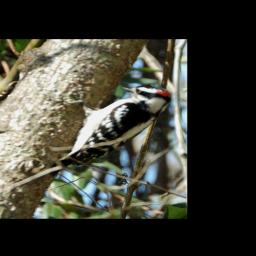Woodpecker: (58, 85, 171, 168)
